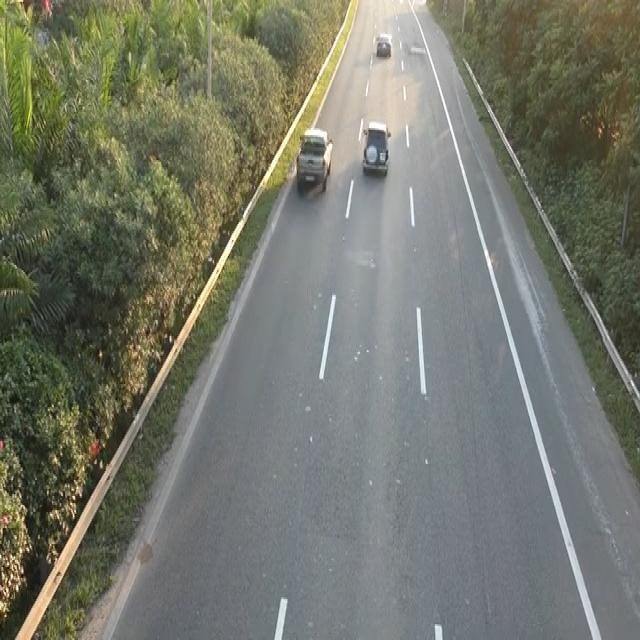bus: (294, 124, 333, 192), (360, 117, 391, 176), (375, 32, 392, 57)
